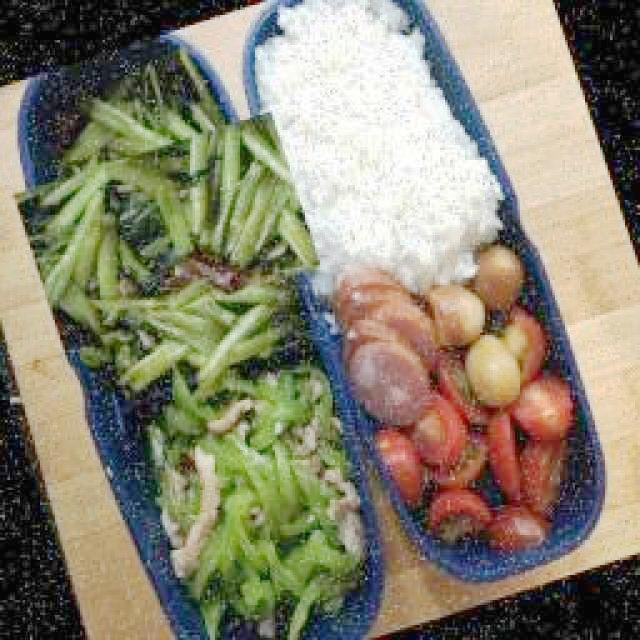chinese_sausage: (337, 279, 437, 426)
rice: (256, 0, 498, 270)
water_spinach: (32, 100, 302, 345), (78, 341, 204, 395)
